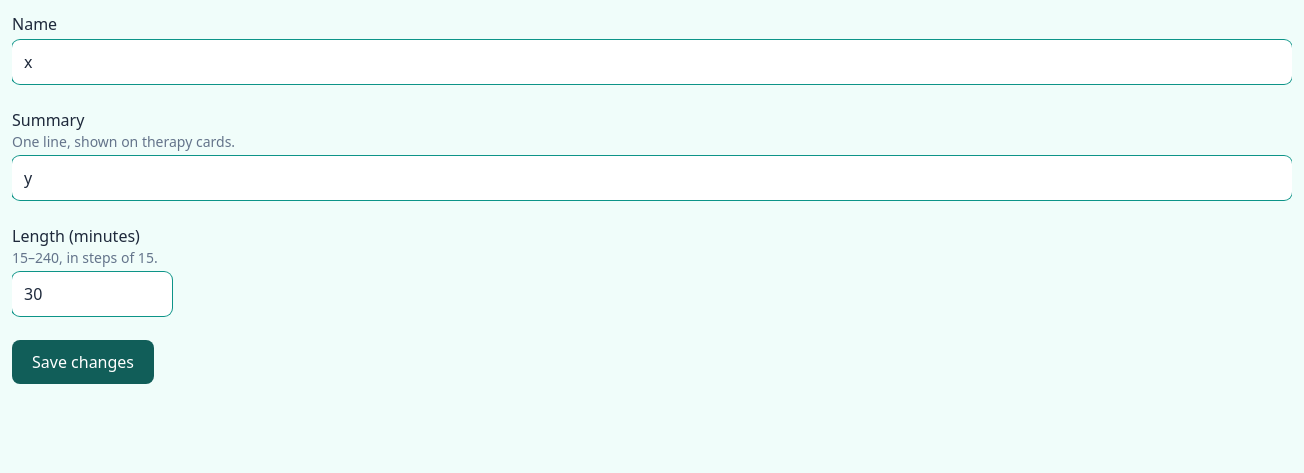
Test: TherapyForm › shows a whole-form message as an alert
Click the button "Save changes". click: click(83, 362)
box: [12,340,154,384]
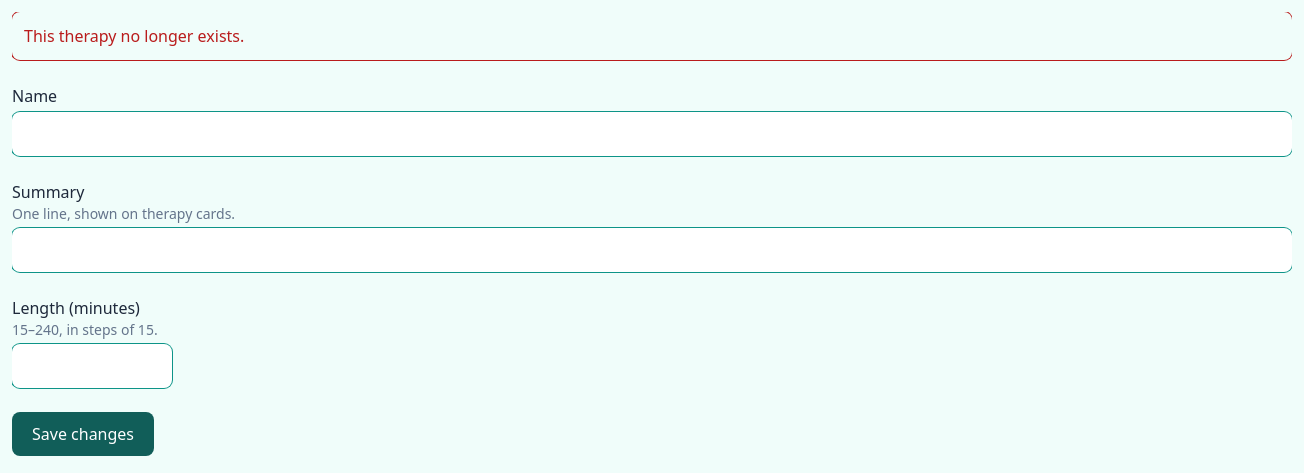
Check: the message reads "This therapy no longer exists.", box [24,25,244,47]
